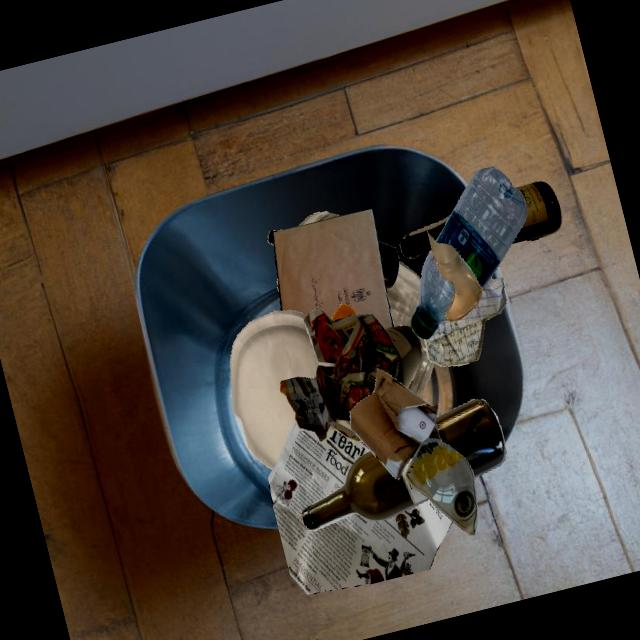biowaste: (331, 304, 356, 321)
cardboard: (349, 367, 441, 479)
glass: (278, 220, 392, 324), (301, 450, 429, 530), (405, 437, 477, 534), (434, 399, 506, 477), (427, 231, 482, 321), (512, 181, 561, 243), (383, 325, 422, 387), (399, 215, 450, 258), (378, 240, 398, 289)
paper: (267, 421, 452, 594), (280, 308, 398, 442), (272, 209, 392, 328), (230, 310, 318, 470), (424, 277, 506, 366)
plastic: (435, 166, 527, 289), (410, 249, 455, 339)
